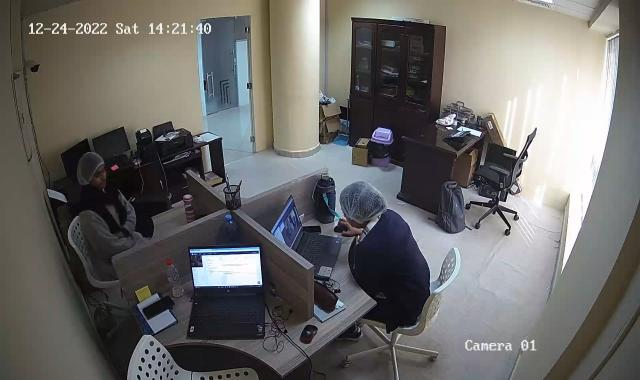hairnet: (340, 180, 388, 224), (74, 151, 108, 189)
